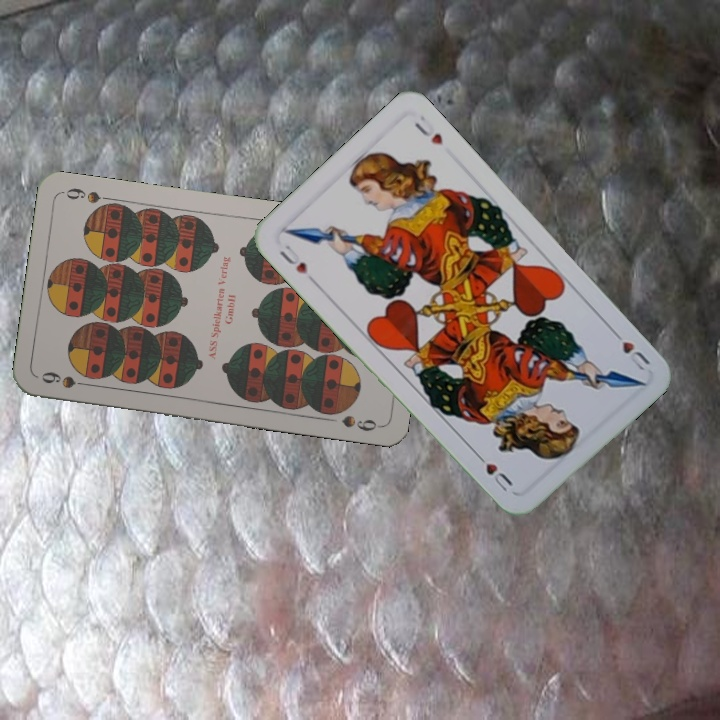HU: (607, 325, 653, 374), (275, 240, 311, 277)
S9: (37, 367, 95, 391)
